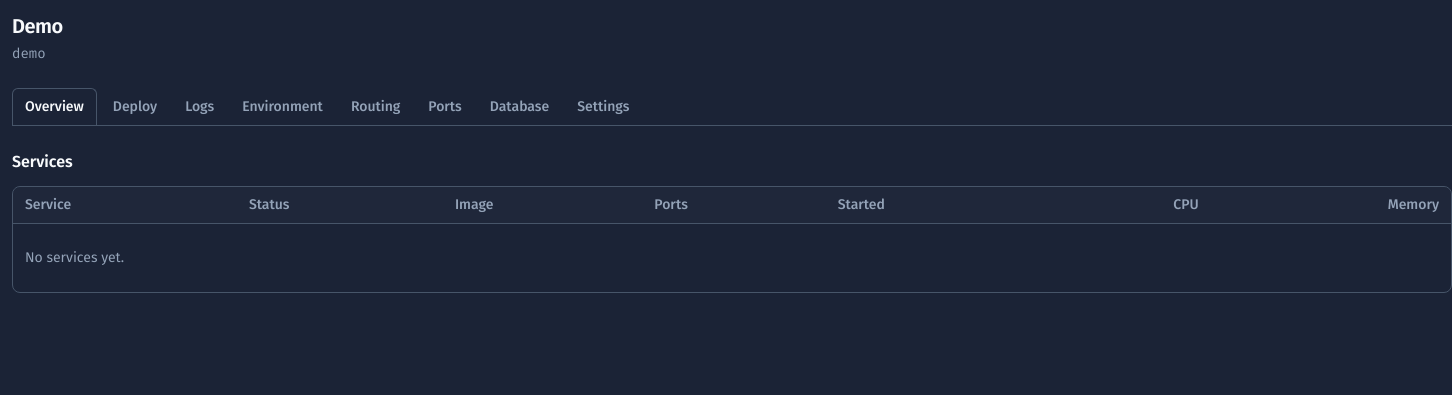
Scenario: ProjectPage database rotate › shows an error when rotate fails
Expected: the heading "Demo" is shown, [12, 14, 63, 38]
Click the tab "Database" at (520, 106), box [478, 88, 561, 125]
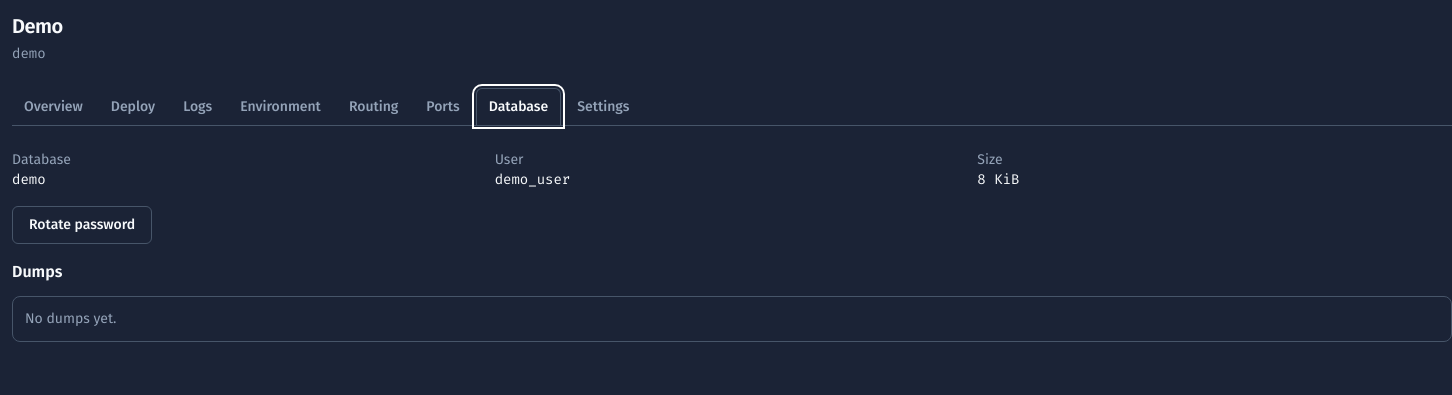
Click the button "Rotate password" at (82, 225), box [12, 206, 152, 244]
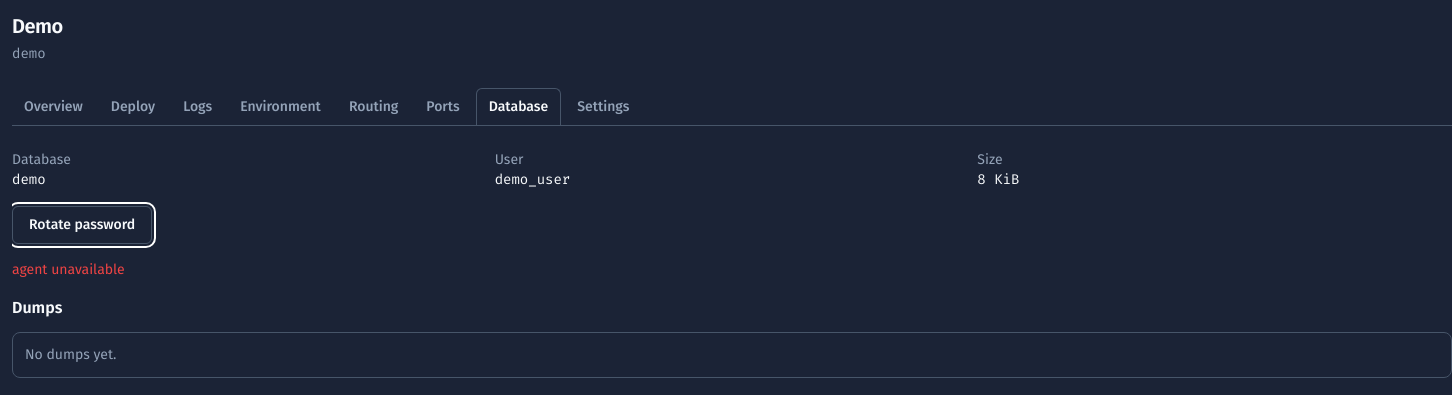
Expected: the message reads "agent unavailable", [12, 261, 125, 278]
